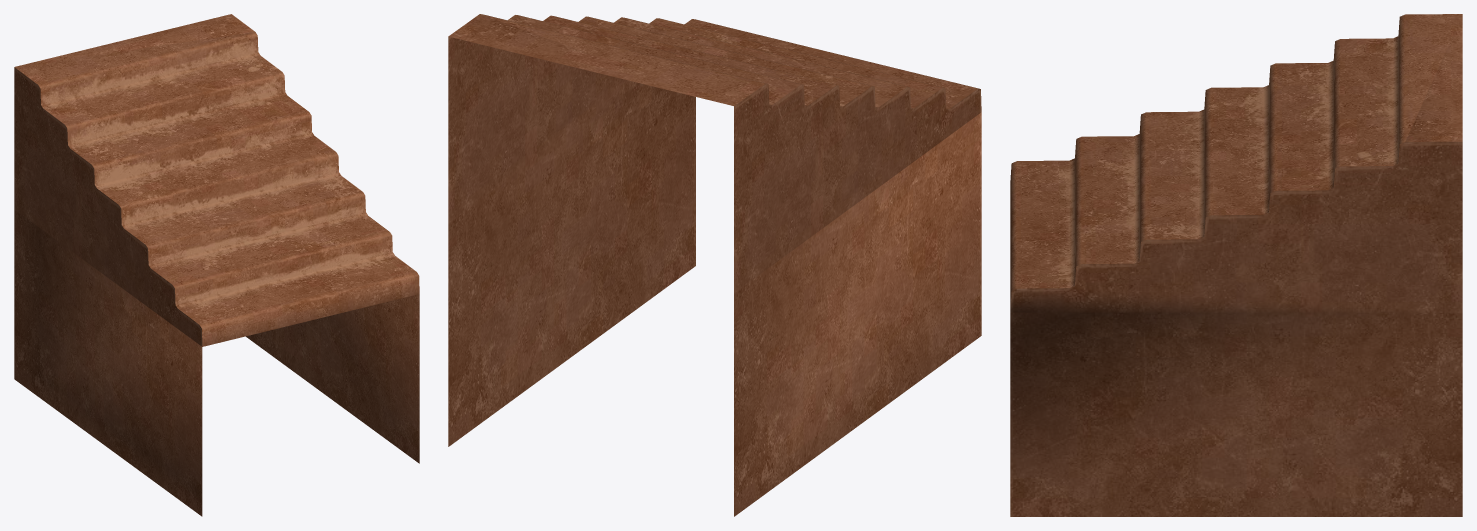
The model's file is stair_300cm_rovno_01.glb.
3 views of the same model, side by side, from view 1: azimuth 30°, elevation 25°; view 2: azimuth 150°, elevation 25°; view 3: azimuth 270°, elevation 25° (orthographic). The views are drawn at different scales.
Parts seen in each view (by area): view 1: stair_300cm_rovno_01; view 2: stair_300cm_rovno_01; view 3: stair_300cm_rovno_01.
Part boxes in pixels (x1=…): stair_300cm_rovno_01: x1=14, y1=14, x2=419, y2=516; stair_300cm_rovno_01: x1=448, y1=14, x2=981, y2=516; stair_300cm_rovno_01: x1=1010, y1=14, x2=1462, y2=516.
Bounding box in the file's own units: 2 × 2.75 × 3.
Materials: 1 (1 with a texture image).
